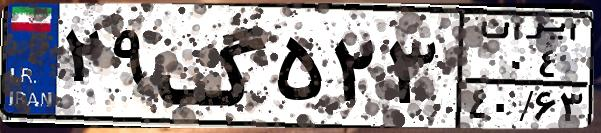0: (508, 27, 537, 80), (495, 70, 520, 125)
2: (330, 28, 385, 110), (57, 26, 110, 100)
3: (385, 28, 445, 110), (560, 70, 590, 125)
4: (537, 27, 568, 80), (470, 70, 495, 125)
5: (270, 28, 330, 110)
6: (535, 70, 560, 125)
9: (110, 28, 156, 98)
گ: (156, 12, 270, 120)
